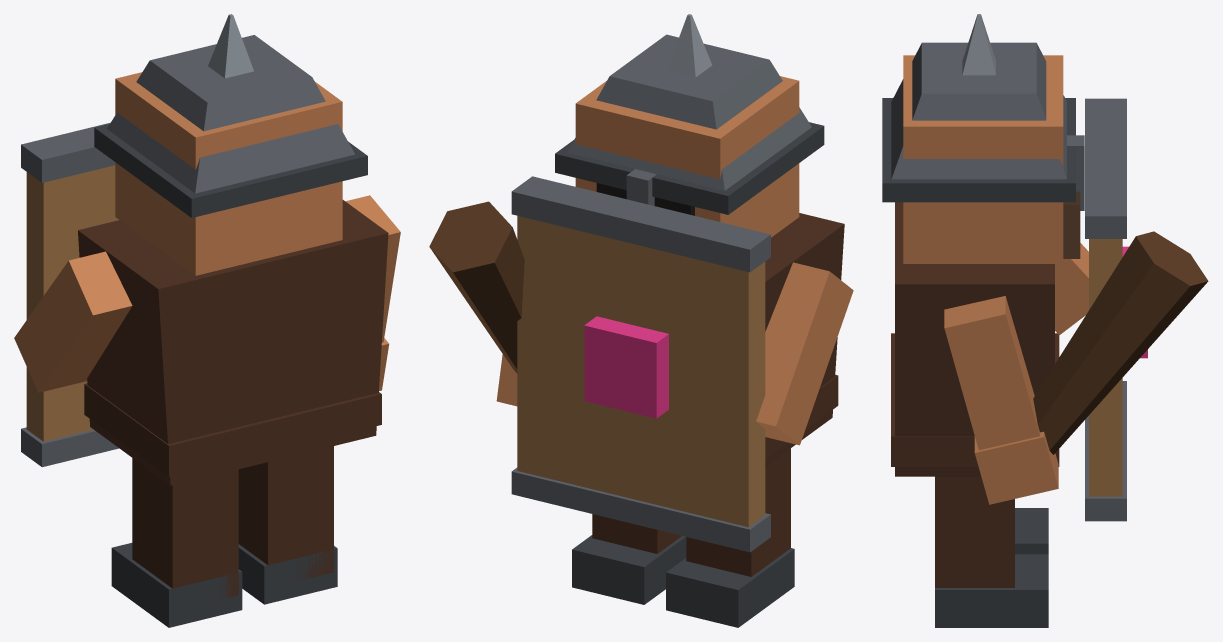
The model's file is EN_ShieldThug.fbx.
3 renders of one model, left to right at view 1: azimuth 30°, elevation 25°; view 2: azimuth 150°, elevation 25°; view 3: azimuth 270°, elevation 25°, orthographic.
Parts seen in each view (by area): view 1: Body, Head, Helmet, LegL, Shield, LegR, ArmL, Belt, Brim, BootL, BootR, ShieldRimT (+3 smaller); view 2: Shield, Head, Helmet, ShieldRimT, ArmL, Club, ShieldBoss, ShieldRimB, BootL, Brim, BootR, Body (+7 smaller); view 3: Body, Head, Club, Helmet, ArmR, LegR, Brim, ShieldRimT, BootR, Shield, FistR, Belt (+6 smaller).
Part boxes in pixels (x1,y1,x2,y2): Body: (78, 200, 388, 485); Head: (115, 72, 342, 275); Helmet: (107, 35, 354, 193); LegL: (132, 458, 238, 599); Shield: (26, 165, 118, 441); LegR: (238, 446, 333, 580); ArmL: (14, 251, 132, 392); Belt: (84, 383, 381, 476); Brim: (94, 123, 367, 217); BootL: (111, 543, 242, 627); BootR: (238, 544, 337, 604); ShieldRimT: (21, 122, 115, 182); Shield: (517, 215, 765, 527); Head: (575, 76, 799, 237); Helmet: (567, 34, 811, 190); ShieldRimT: (511, 176, 770, 272); ArmL: (756, 262, 853, 445); Club: (429, 201, 524, 373); ShieldBoss: (584, 316, 668, 418); ShieldRimB: (511, 467, 770, 552); BootL: (666, 548, 794, 627); Brim: (555, 122, 824, 214); BootR: (572, 535, 686, 604); Body: (765, 213, 844, 466); Body: (895, 202, 1054, 476); Head: (903, 55, 1063, 263); Club: (1033, 231, 1208, 454); Helmet: (891, 42, 1066, 179); ArmR: (944, 296, 1039, 450); LegR: (935, 476, 1014, 587); Brim: (882, 98, 1075, 202); ShieldRimT: (1085, 98, 1126, 238); BootR: (935, 554, 1048, 627); Shield: (1089, 239, 1122, 496); FistR: (974, 431, 1058, 504); Belt: (891, 333, 1059, 466).
Bounding box in the file's own units: 0.8455 × 0.7747 × 1.5.
